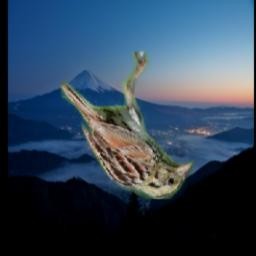Sparrow: (61, 51, 193, 199)
